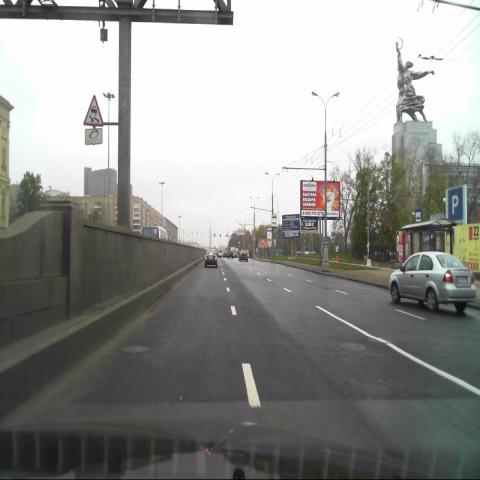1_15: (84, 94, 103, 126)
6_4: (448, 186, 464, 220)
